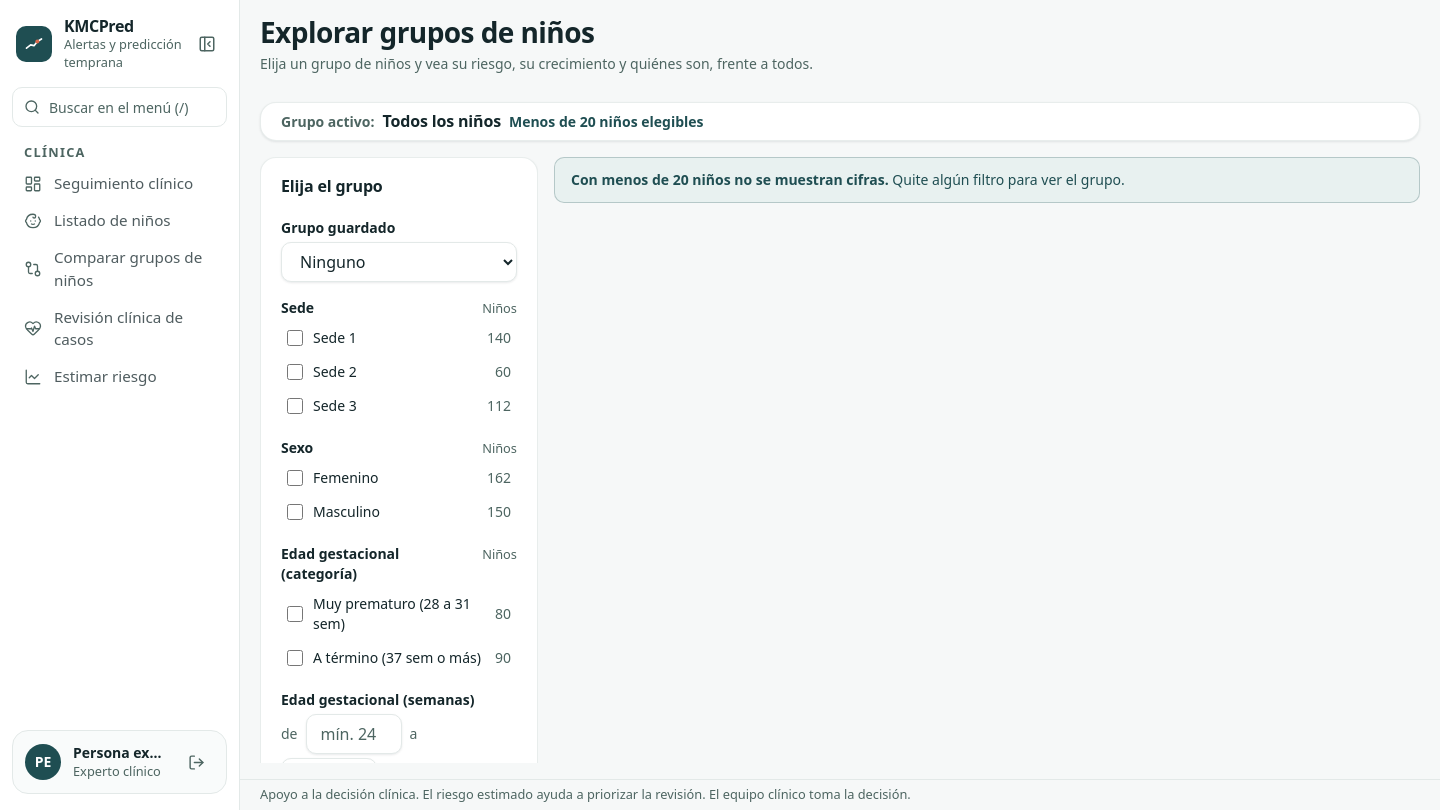
Test: las filas, los rangos, el período y el muestreo del panel (Explorar) › cada fila se marca con un clic en cualquier parte de ella; la cifra va pegada a la etiqueta bajo un encabezado «Niños»
The image size is (1440, 810).
Expected: the element "Sede Niños Sede 1 140 Sede 2 60 Sede 3 112" is shown, top-left (281, 298), bottom-right (517, 422)
Expected: the list item "Sede 2 60" is shown, top-left (287, 362), bottom-right (511, 381)
# la fila entera es una etiqueta: el clic en su cifra marca la casilla
Click the text "60" at (503, 372), box top-left (495, 362), bottom-right (511, 382)
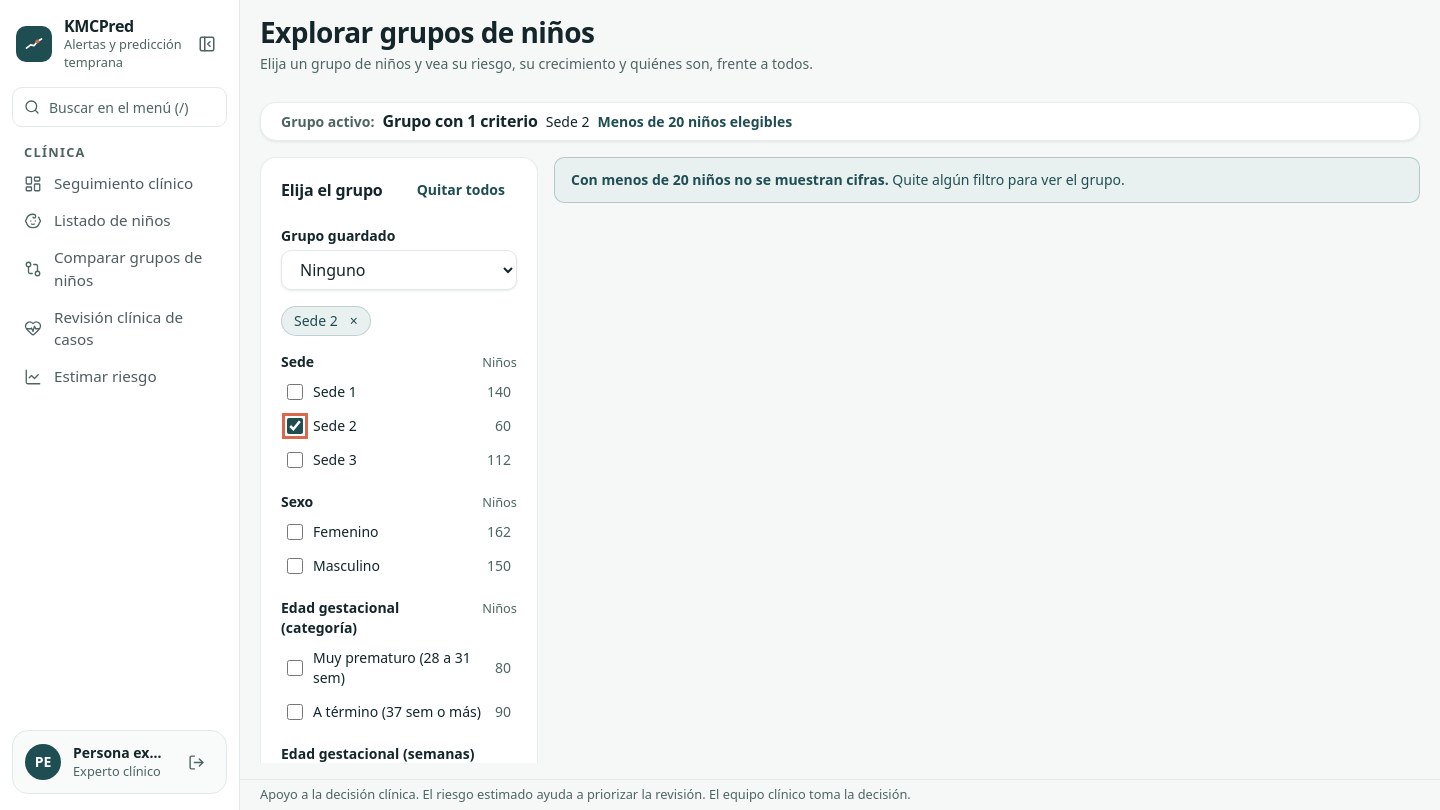
Expected: the checkbox labelled "Sede 2 60" is checked, top-left (287, 418), bottom-right (303, 434)
